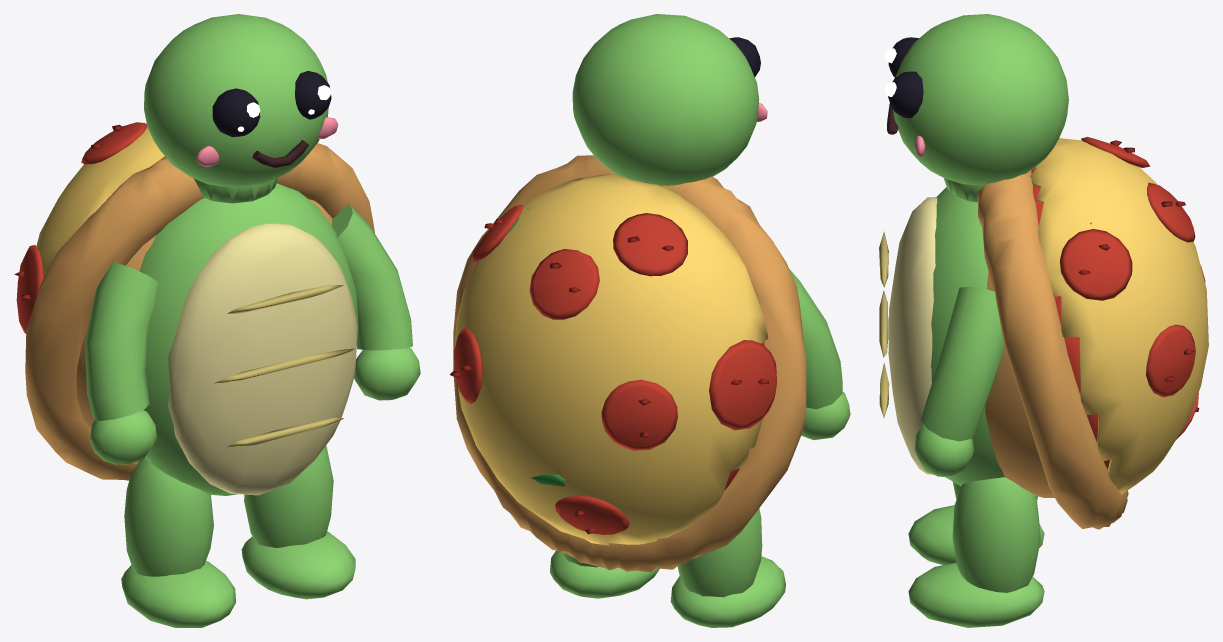
Rendered from pilot_skilpadde2_pizza_lav.glb.
The picture shows the model from 3 angles, left to right: view 1: azimuth 30°, elevation 25°; view 2: azimuth 150°, elevation 25°; view 3: azimuth 270°, elevation 25°; orthographic projection. The views are drawn at different scales.
Visible parts, largest first — view 1: kropp, hode, bein_vf, vinge_v, bein_hf, vinge_h; view 2: kropp, hode, bein_vf, vinge_v, bein_hf; view 3: kropp, hode, bein_hf, vinge_h, bein_vf.
Boxes of the visible parts, left/top/right/bottom form: kropp: left=14, top=122, right=374, bottom=495; hode: left=144, top=14, right=338, bottom=203; bein_vf: left=121, top=458, right=235, bottom=627; vinge_v: left=85, top=262, right=158, bottom=464; bein_hf: left=241, top=445, right=355, bottom=599; vinge_h: left=331, top=204, right=420, bottom=400; kropp: left=450, top=155, right=806, bottom=572; hode: left=572, top=14, right=767, bottom=185; bein_vf: left=670, top=508, right=785, bottom=627; vinge_v: left=789, top=269, right=850, bottom=440; bein_hf: left=550, top=550, right=659, bottom=598; kropp: left=879, top=136, right=1208, bottom=529; hode: left=885, top=14, right=1068, bottom=202; bein_hf: left=908, top=477, right=1044, bottom=627; vinge_h: left=914, top=286, right=1004, bottom=476; bein_vf: left=908, top=482, right=1044, bottom=564.
Size of the model in its own units: 0.9875 by 1.56 by 0.8212.
